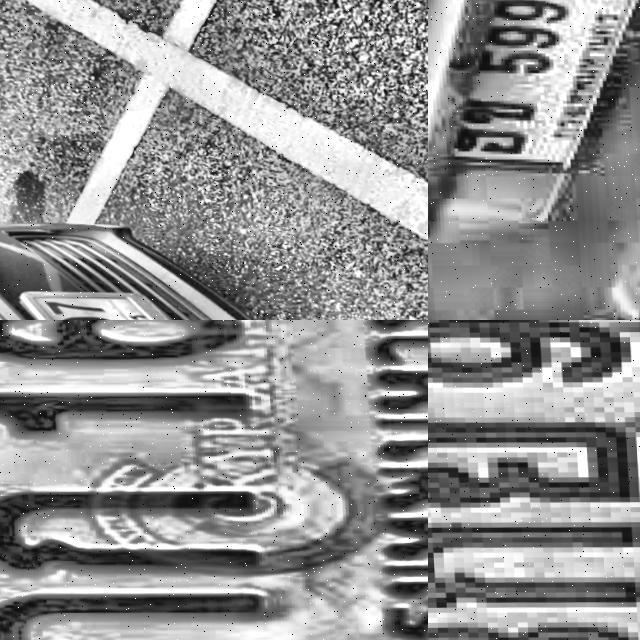license-plate: (0, 320, 428, 640), (428, 320, 640, 640), (428, 0, 640, 176), (9, 280, 275, 320)
